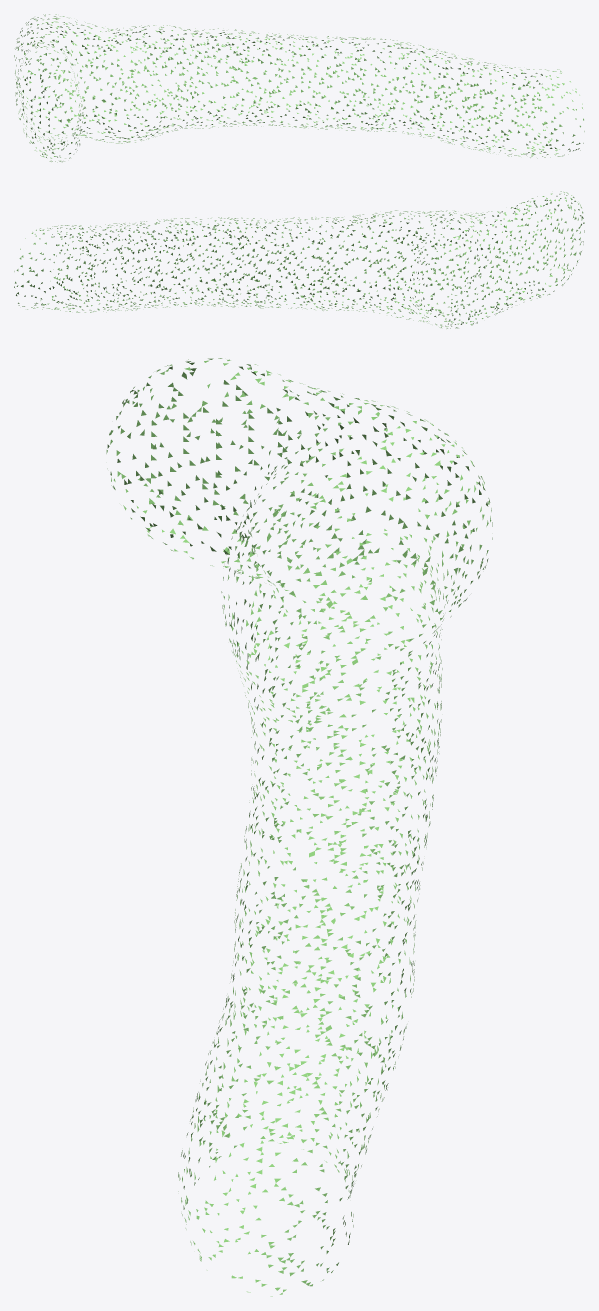
Rendered from morph_015.glb.
3 views of the same model, one above another, from view 1: azimuth 30°, elevation 25°; view 2: azimuth 150°, elevation 25°; view 3: azimuth 270°, elevation 25° (orthographic). The views are drawn at different scales.
Size of the model in its own units: 137 by 56.5 by 44.36.
